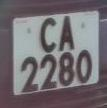0: (75, 47, 94, 88)
2: (19, 52, 41, 95), (40, 53, 60, 91)
8: (57, 51, 76, 89)
A: (58, 13, 77, 52)
C: (37, 14, 60, 55)
